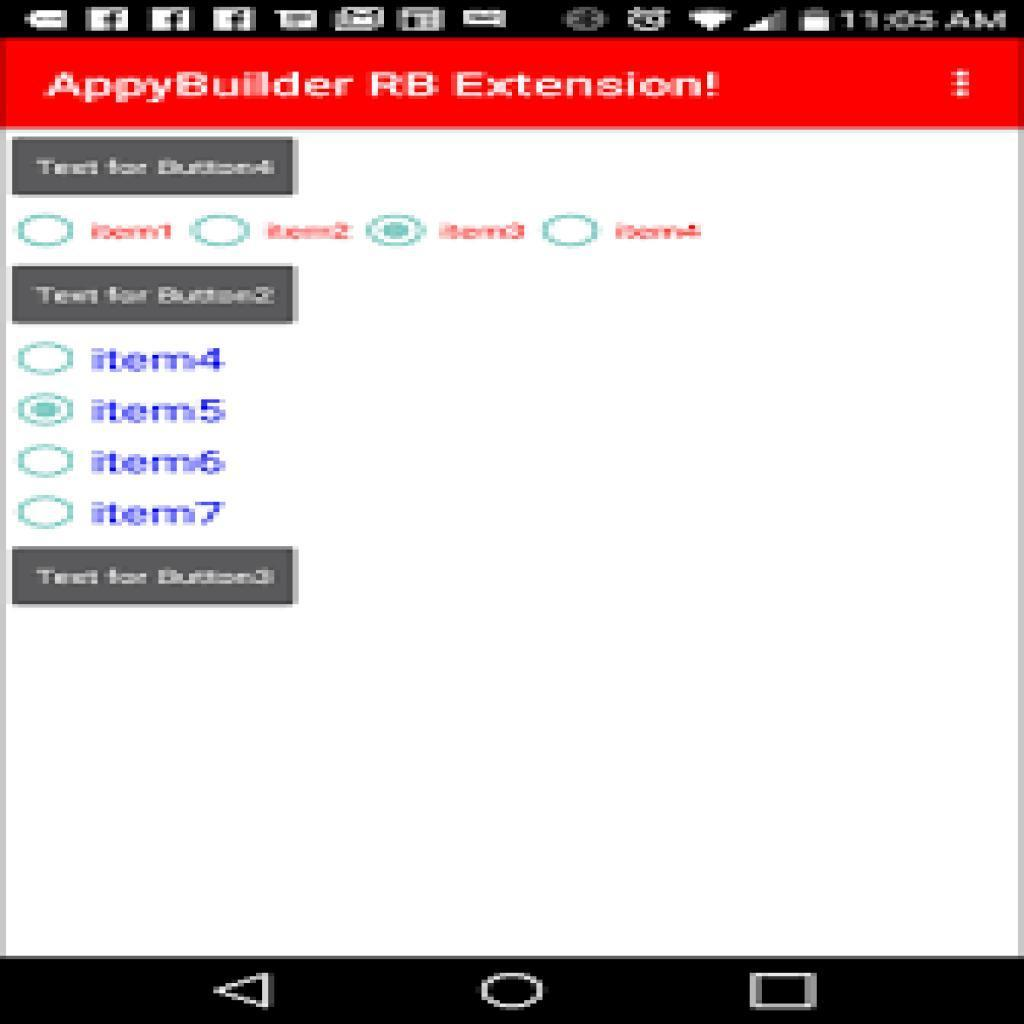button: (11, 265, 298, 329), (15, 136, 299, 196), (13, 547, 296, 607)
radio: (18, 444, 74, 480), (368, 215, 428, 248), (20, 393, 75, 429), (19, 342, 74, 377), (542, 214, 598, 248), (19, 214, 74, 248), (19, 496, 74, 530), (193, 217, 249, 247)
